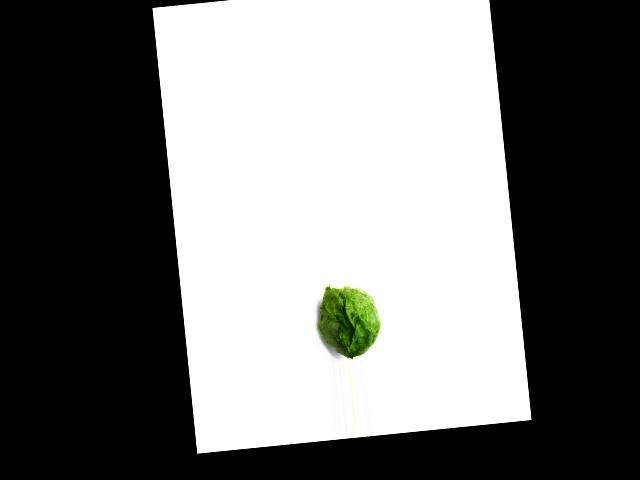lettuce: (311, 282, 387, 361)
